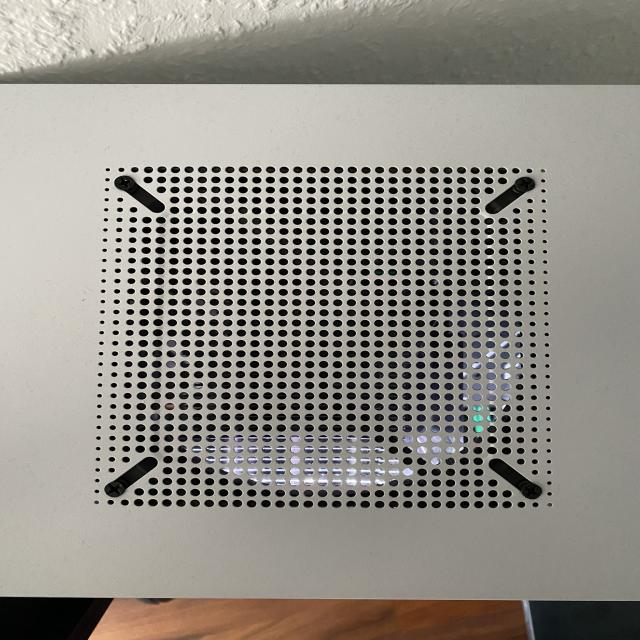PhillipsScrewHead: (112, 174, 136, 191), (514, 175, 538, 192), (102, 481, 126, 498), (521, 481, 542, 500)
